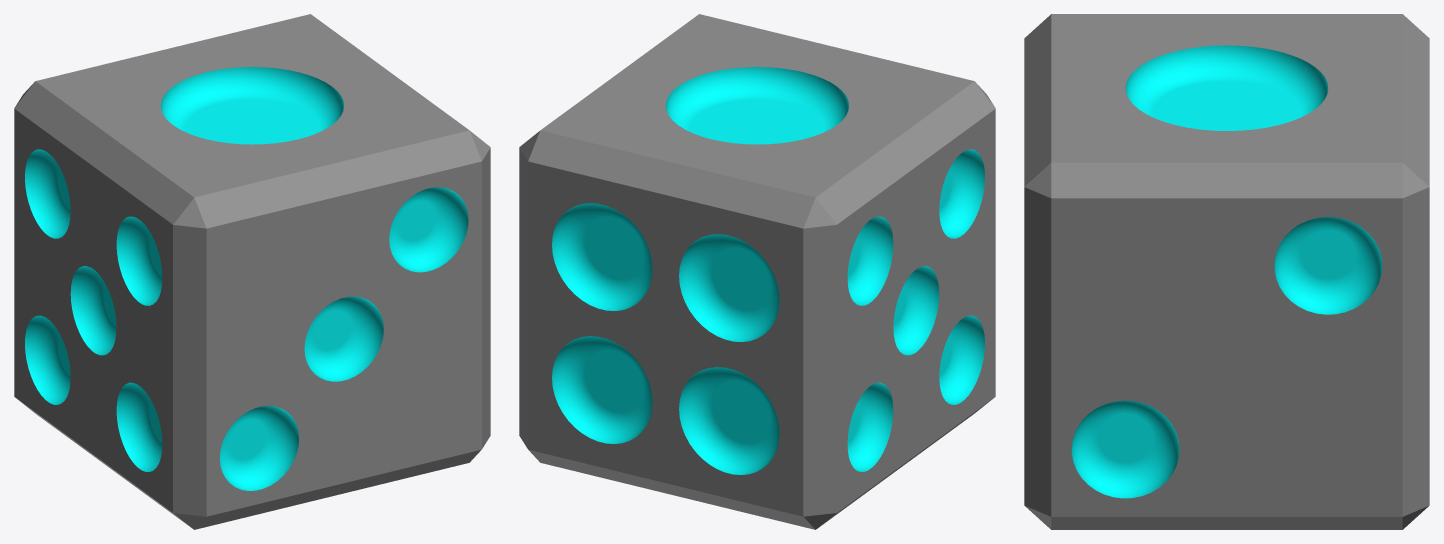
The model's file is saikoro.glb.
The picture shows the model from 3 angles, left to right: view 1: azimuth 30°, elevation 25°; view 2: azimuth 150°, elevation 25°; view 3: azimuth 270°, elevation 25°; orthographic projection. The views are drawn at different scales.
Visible parts, largest first — view 1: saikoro; view 2: saikoro; view 3: saikoro.
Boxes of the visible parts, x1,y1,x2,y2 form: saikoro: [14, 14, 490, 529]; saikoro: [519, 14, 995, 529]; saikoro: [1024, 14, 1429, 529].
Bounding box in the file's own units: 0.03 × 0.03 × 0.03.
